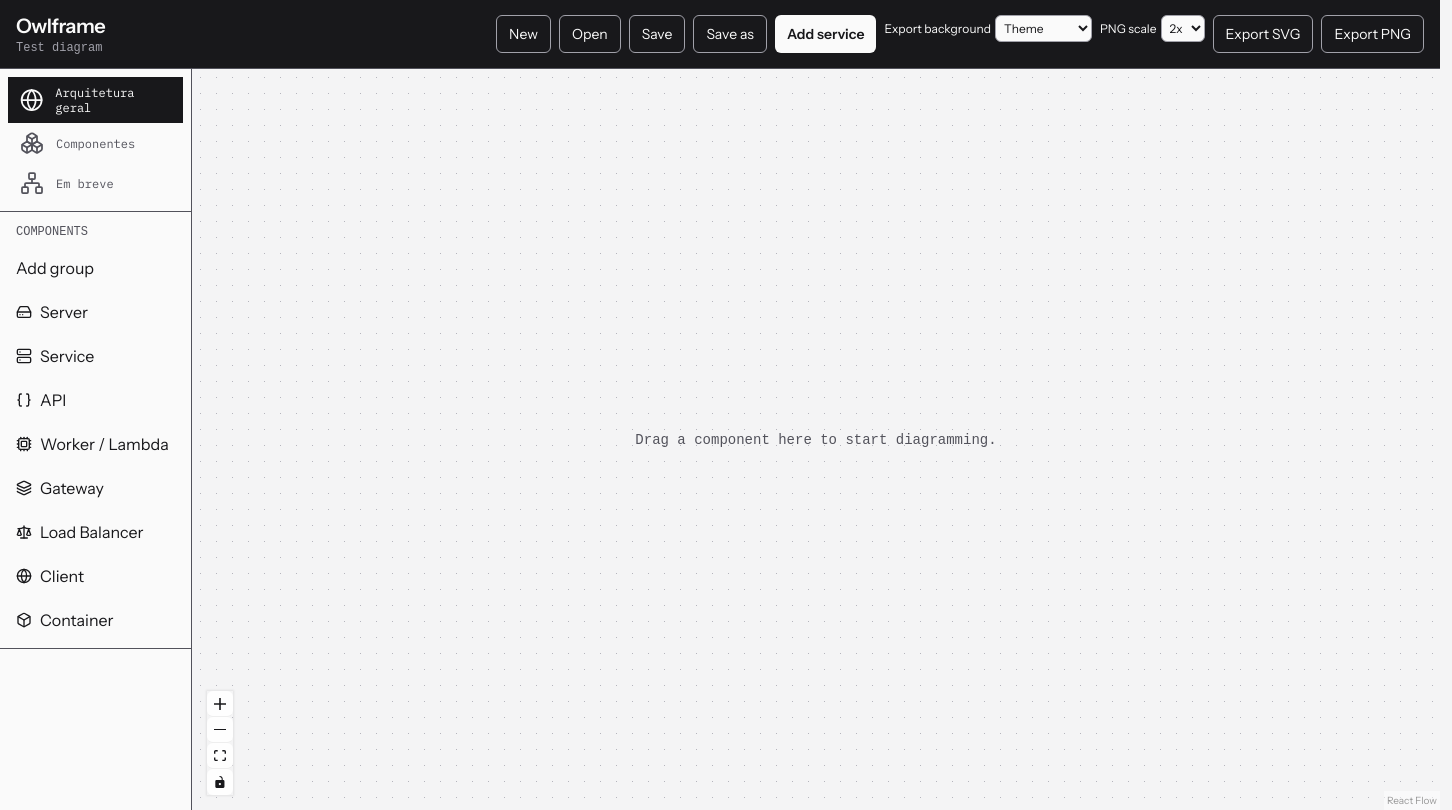
Scenario: App › shows component choices appropriate to the active altitude
expect the button "Server" is shown: met, box 8,292 -> 183,332
expect the button "Service" is shown: met, box 8,336 -> 183,376
Click the button "Componentes": x=96, y=143 8,123 -> 183,163
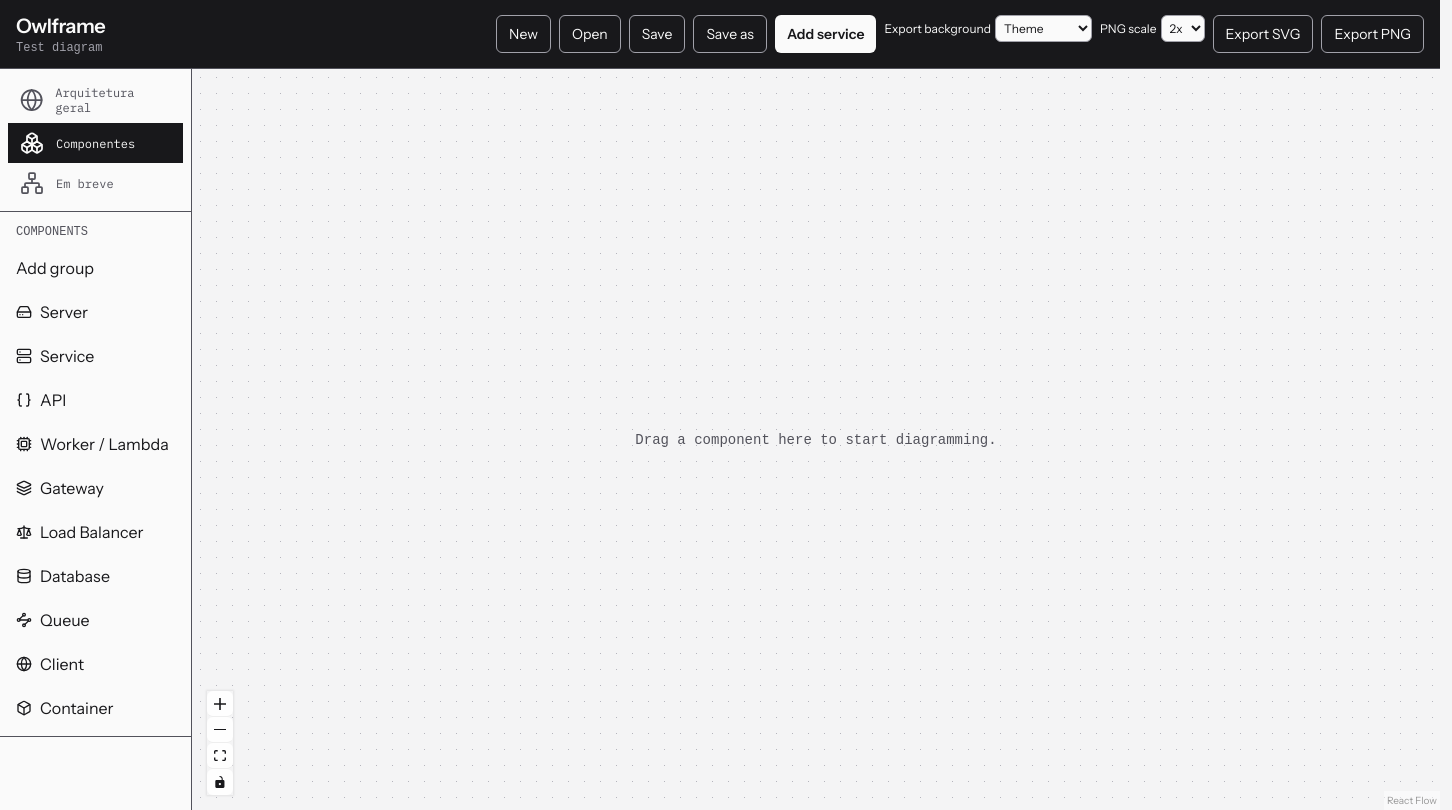
expect the button "API" is shown: met, box 8,380 -> 183,420
expect the button "Database" is shown: met, box 8,556 -> 183,596
